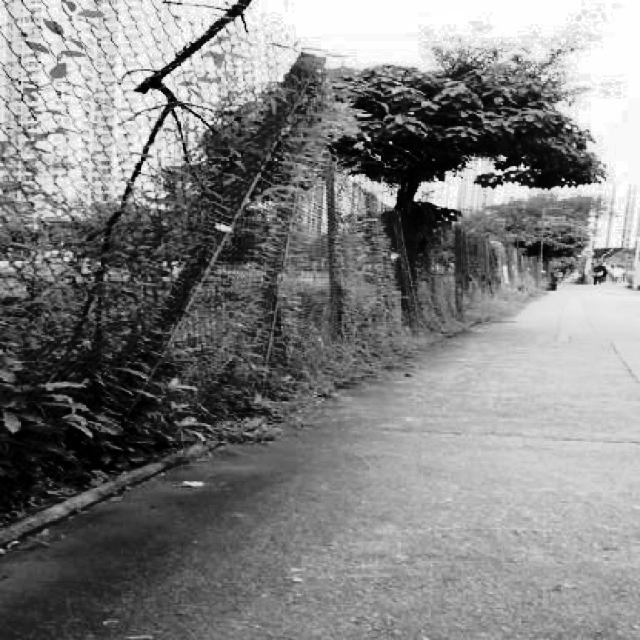anomaly-fence: (162, 26, 359, 386)
